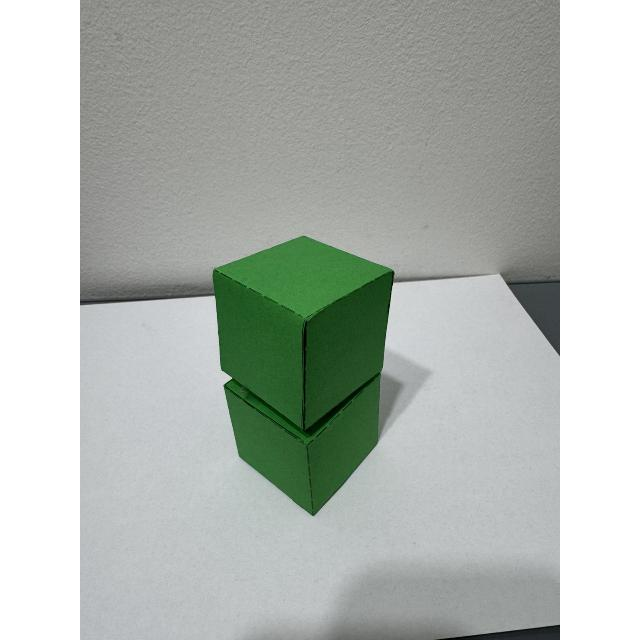green_cube: (199, 213, 423, 521)
